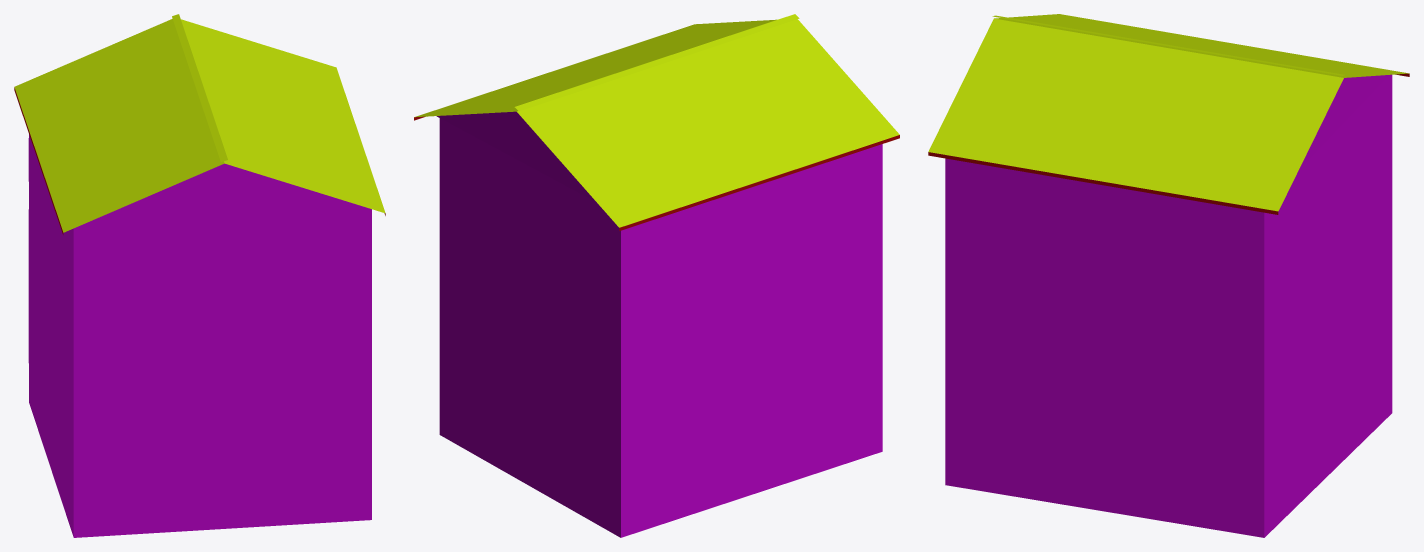
Rendered from scl_0.glb.
3 renders of one model, left to right at view 1: azimuth 30°, elevation 25°; view 2: azimuth 150°, elevation 25°; view 3: azimuth 270°, elevation 25°, orthographic. The views are drawn at different scales.
Visible parts, largest first — view 1: scl_0; view 2: scl_0; view 3: scl_0.
Boxes of the visible parts, bbox=[...] form: scl_0: bbox=[14, 14, 385, 537]; scl_0: bbox=[414, 14, 899, 537]; scl_0: bbox=[928, 14, 1409, 537].
Size of the model in its own units: 14.2 by 13.55 by 14.63.
